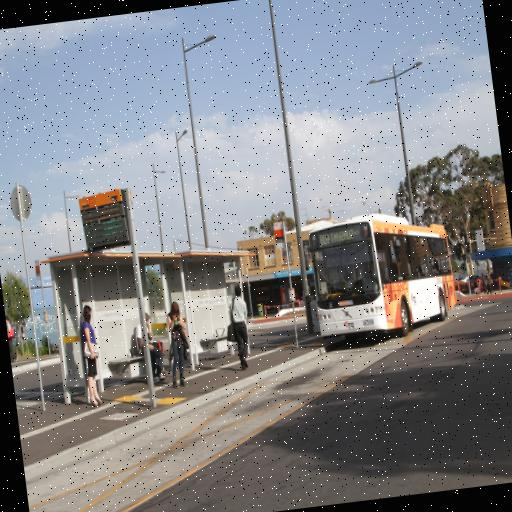Obstruction: (124, 185, 160, 411), (273, 221, 301, 350)
tgsi: (157, 394, 188, 406), (114, 393, 144, 404), (276, 342, 293, 349), (310, 341, 326, 347)
